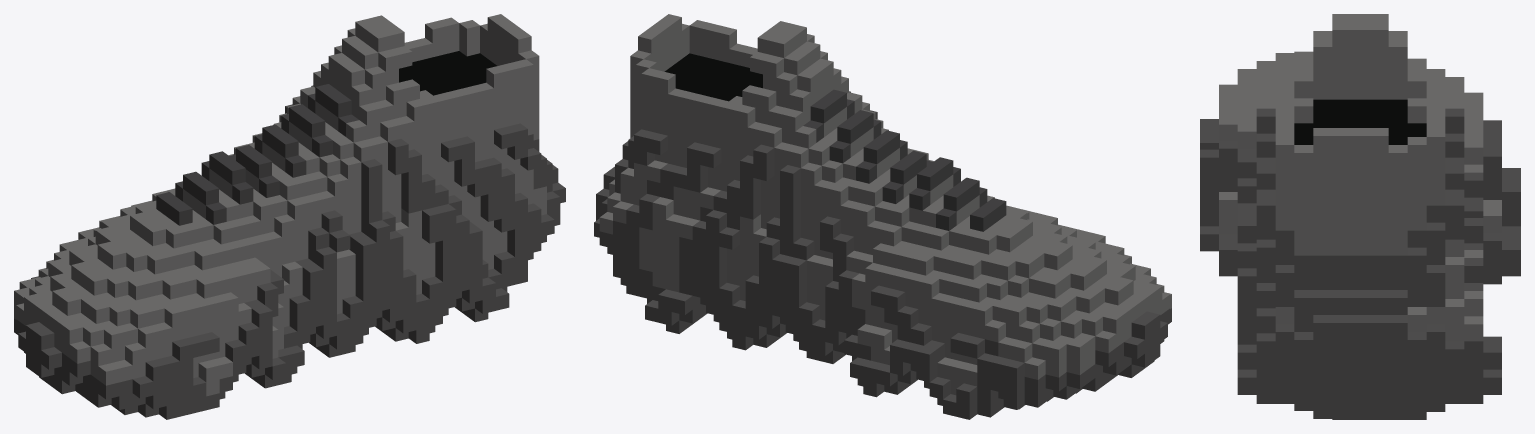
Rendered from Stone.fbx.
3 renders of one model, left to right at view 1: azimuth 30°, elevation 25°; view 2: azimuth 150°, elevation 25°; view 3: azimuth 270°, elevation 25°, orthographic. The views are drawn at different scales.
Parts seen in each view (by area): view 1: Untitled; view 2: Untitled; view 3: Untitled.
Part boxes in pixels (bbox=[...]): Untitled: bbox=[14, 14, 565, 419]; Untitled: bbox=[594, 14, 1171, 419]; Untitled: bbox=[1200, 14, 1520, 419].
Size of the model in its own units: 390 by 200 by 170.
